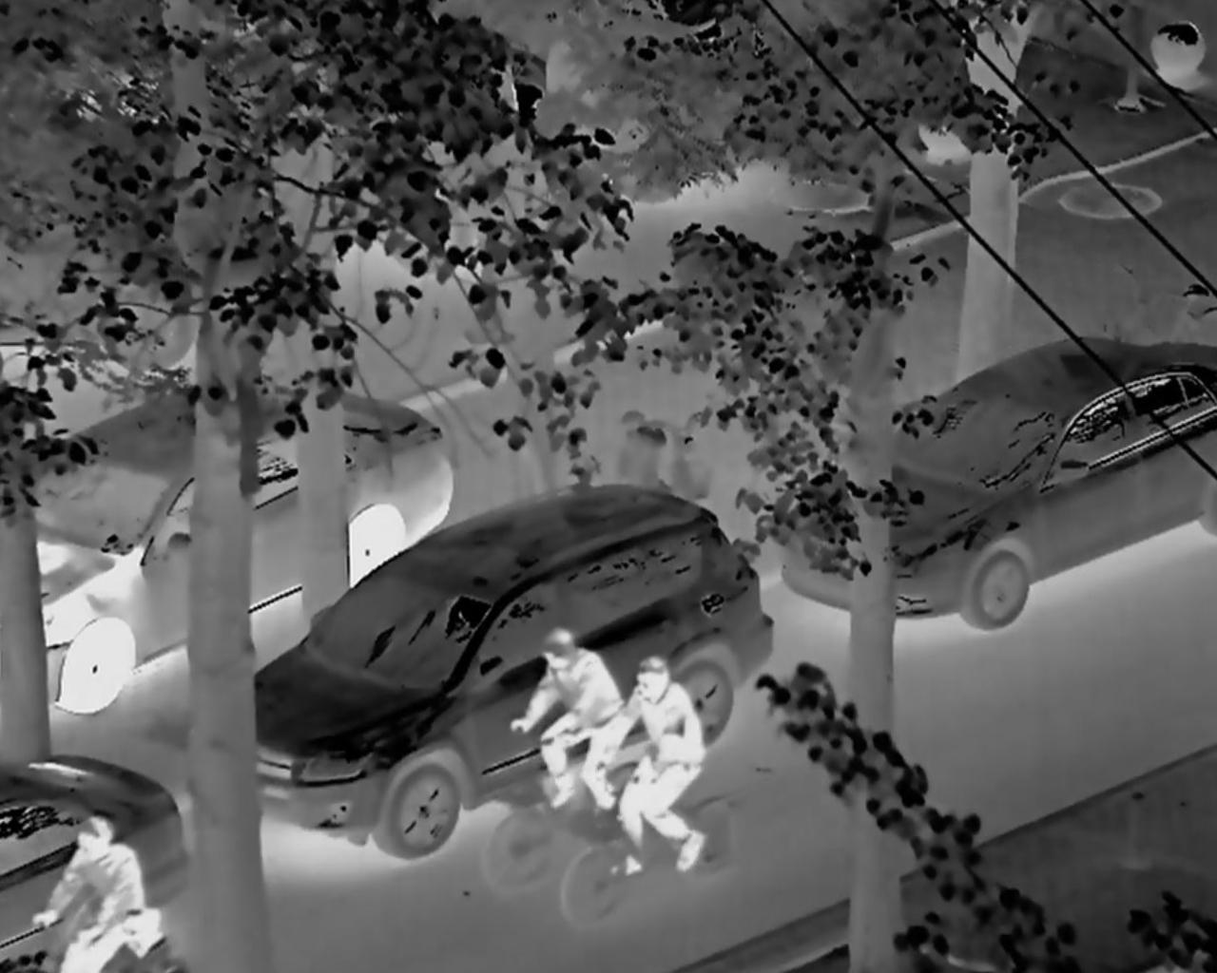person: (606, 653, 719, 878), (510, 621, 625, 823), (29, 815, 158, 973)
